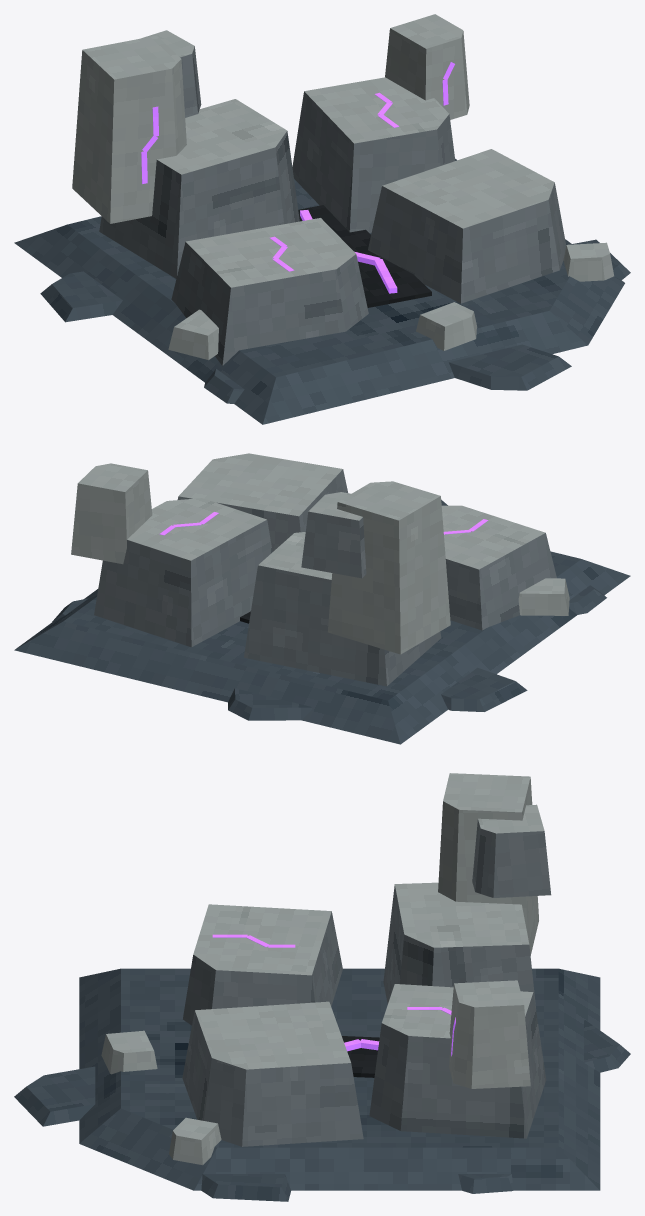
The model's file is mana_devourer_lair_v2.glb.
The picture shows the model from 3 angles, top to bottom: view 1: azimuth 30°, elevation 25°; view 2: azimuth 150°, elevation 25°; view 3: azimuth 270°, elevation 25°; orthographic projection. The views are drawn at different scales.
Parts seen in each view (by area): view 1: Model; view 2: Model; view 3: Model.
Boxes of the visible parts, x1,y1,x2,y2 form: Model: [14, 14, 630, 424]; Model: [14, 453, 630, 744]; Model: [14, 773, 630, 1201].
Size of the model in its own units: 1.23 by 0.5111 by 1.31.
1 material, 1 textured.
